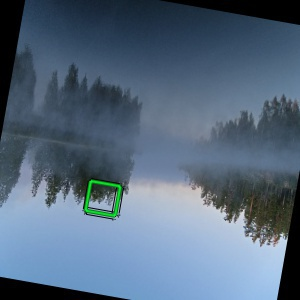square: (81, 177, 125, 221)
